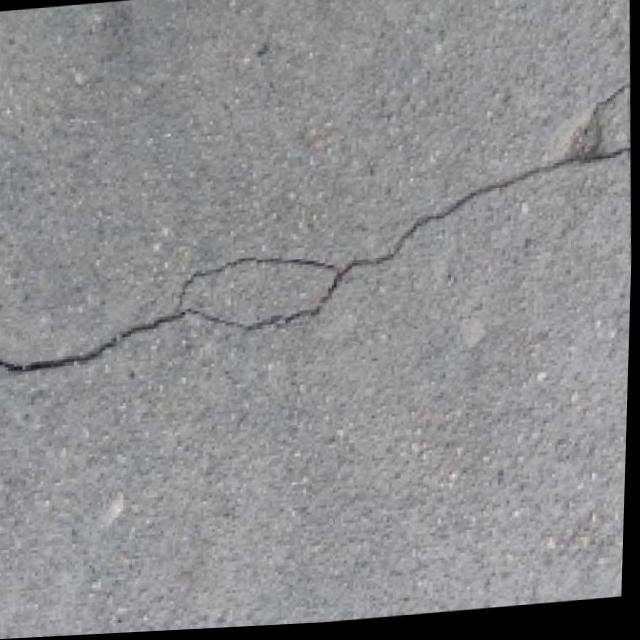Crack: (0, 61, 638, 433)
